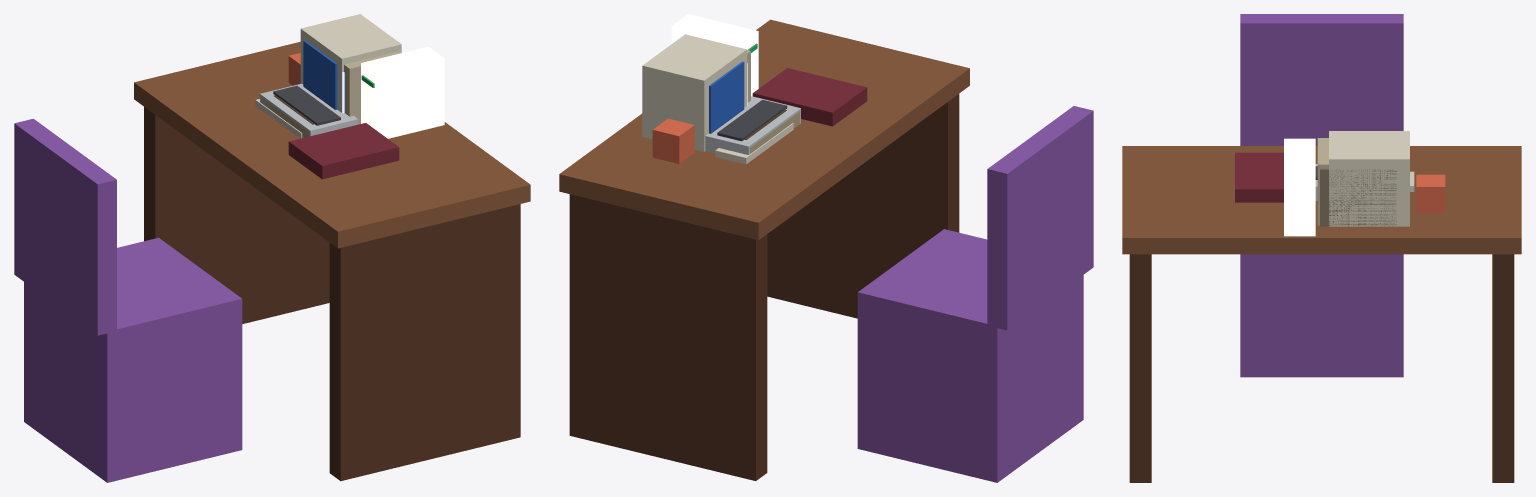
Rendered from desk.glb.
3 renders of one model, left to right at view 1: azimuth 30°, elevation 25°; view 2: azimuth 150°, elevation 25°; view 3: azimuth 270°, elevation 25°, orthographic. The views are drawn at different scales.
Visible parts, largest first — view 1: Box3, Box6, Box1, Box2, Box7, Box11, Box4, Box9, Box10, Box17, Box18, Box15; view 2: Box2, Box6, Box1, Box3, Box7, Box9, Box4, Box11, Box10, Box5, Box17, Box18 (+1 smaller); view 3: Box1, Box6, Box7, Box9, Box2, Box3, Box11, Box4, Box19, Box5, Box15.
Part boxes in pixels (x1=…): Box3: x1=329, y1=204, x2=520, y2=481; Box6: x1=24, y1=237, x2=242, y2=482; Box1: x1=134, y1=41, x2=530, y2=248; Box2: x1=144, y1=107, x2=329, y2=323; Box7: x1=14, y1=118, x2=116, y2=335; Box11: x1=361, y1=46, x2=444, y2=138; Box4: x1=288, y1=123, x2=399, y2=179; Box9: x1=300, y1=14, x2=401, y2=112; Box10: x1=303, y1=40, x2=337, y2=109; Box17: x1=260, y1=83, x2=358, y2=136; Box18: x1=273, y1=85, x2=340, y2=125; Box15: x1=344, y1=51, x2=401, y2=124; Box2: x1=569, y1=194, x2=767, y2=480; Box6: x1=857, y1=229, x2=1083, y2=482; Box1: x1=559, y1=19, x2=969, y2=240; Box3: x1=767, y1=94, x2=959, y2=318; Box7: x1=987, y1=106, x2=1093, y2=330; Box9: x1=642, y1=34, x2=746, y2=151; Box4: x1=752, y1=68, x2=867, y2=126; Box11: x1=671, y1=14, x2=758, y2=96; Box10: x1=709, y1=61, x2=744, y2=133; Box5: x1=652, y1=118, x2=694, y2=163; Box17: x1=705, y1=96, x2=800, y2=154; Box18: x1=717, y1=99, x2=787, y2=141; Box1: x1=1122, y1=146, x2=1521, y2=254; Box6: x1=1240, y1=254, x2=1403, y2=377; Box7: x1=1240, y1=14, x2=1403, y2=145; Box9: x1=1329, y1=131, x2=1409, y2=226; Box2: x1=1492, y1=254, x2=1514, y2=482; Box3: x1=1129, y1=254, x2=1151, y2=482; Box11: x1=1284, y1=138, x2=1315, y2=236; Box4: x1=1235, y1=152, x2=1283, y2=202; Box19: x1=1320, y1=168, x2=1396, y2=226; Box5: x1=1416, y1=174, x2=1445, y2=213; Box15: x1=1317, y1=138, x2=1328, y2=225.
Bounding box in the file's own units: 1.16 × 0.9596 × 1.1.
